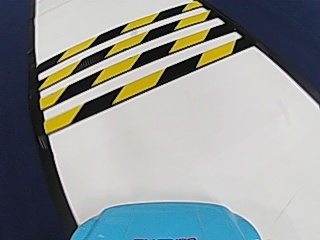bump: (50, 14, 203, 110)
